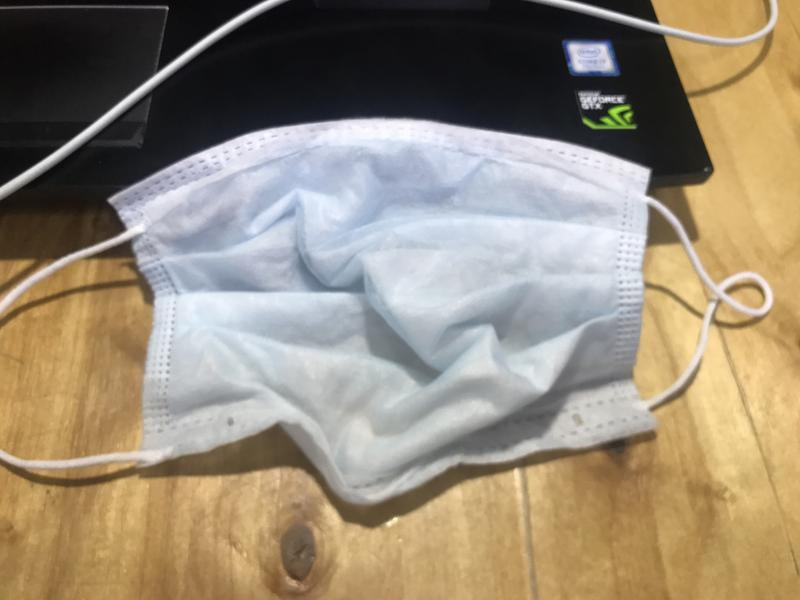medical_mask: (5, 118, 772, 505)
